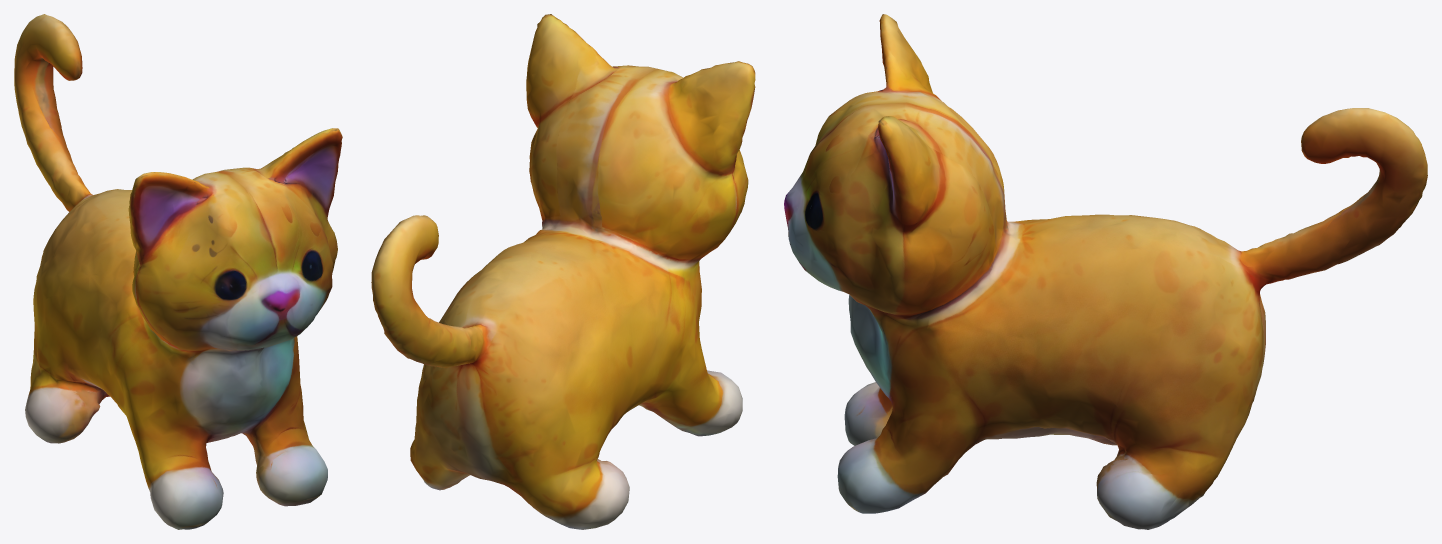
The model's file is orange_plushie_cute_c_0718133304_refine.fbx.
The picture shows the model from 3 angles, left to right: view 1: azimuth 30°, elevation 25°; view 2: azimuth 150°, elevation 25°; view 3: azimuth 270°, elevation 25°; orthographic projection. The views are drawn at different scales.
Parts seen in each view (by area): view 1: Mesh_0; view 2: Mesh_0; view 3: Mesh_0.
Boxes of the visible parts, x1,y1,x2,y2 form: Mesh_0: [14, 14, 342, 529]; Mesh_0: [371, 14, 755, 529]; Mesh_0: [784, 14, 1427, 529].
Bounding box in the file's own units: 53.05 × 84.87 × 120.
Materials: 1 (1 with a texture image).
